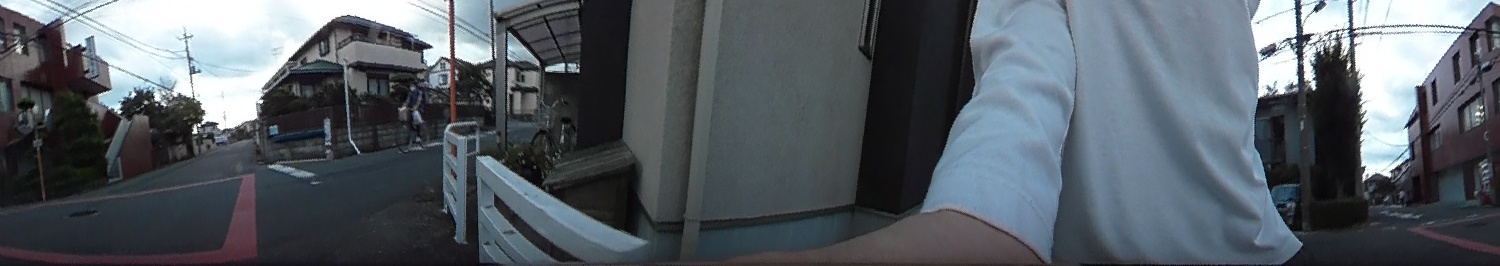person: (399, 76, 422, 142)
